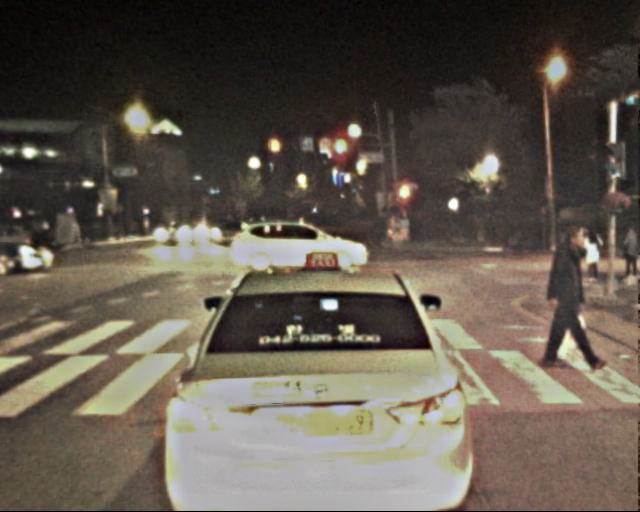person: (539, 225, 600, 374), (581, 226, 606, 288), (619, 224, 640, 282)
